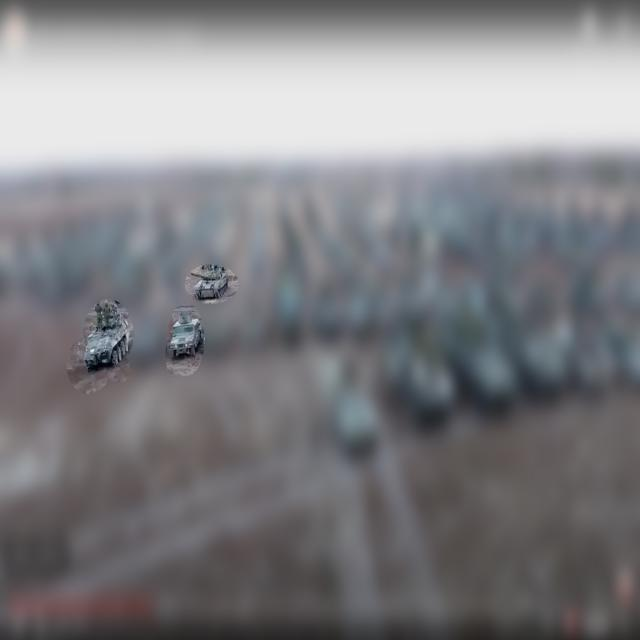tank: (82, 312, 130, 370), (188, 264, 230, 302)
